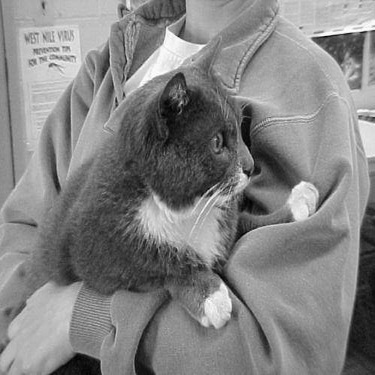cat: (32, 31, 321, 332)
